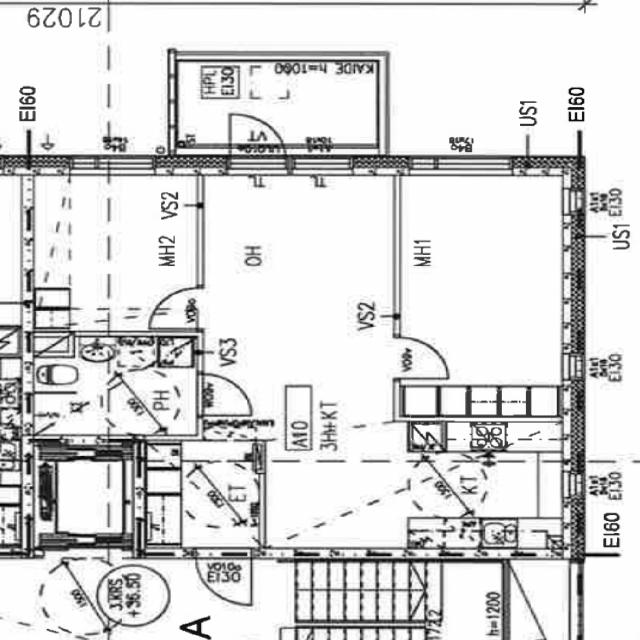door: (231, 110, 285, 174), (196, 548, 250, 606), (196, 374, 252, 416), (148, 288, 204, 328), (393, 338, 447, 378)
